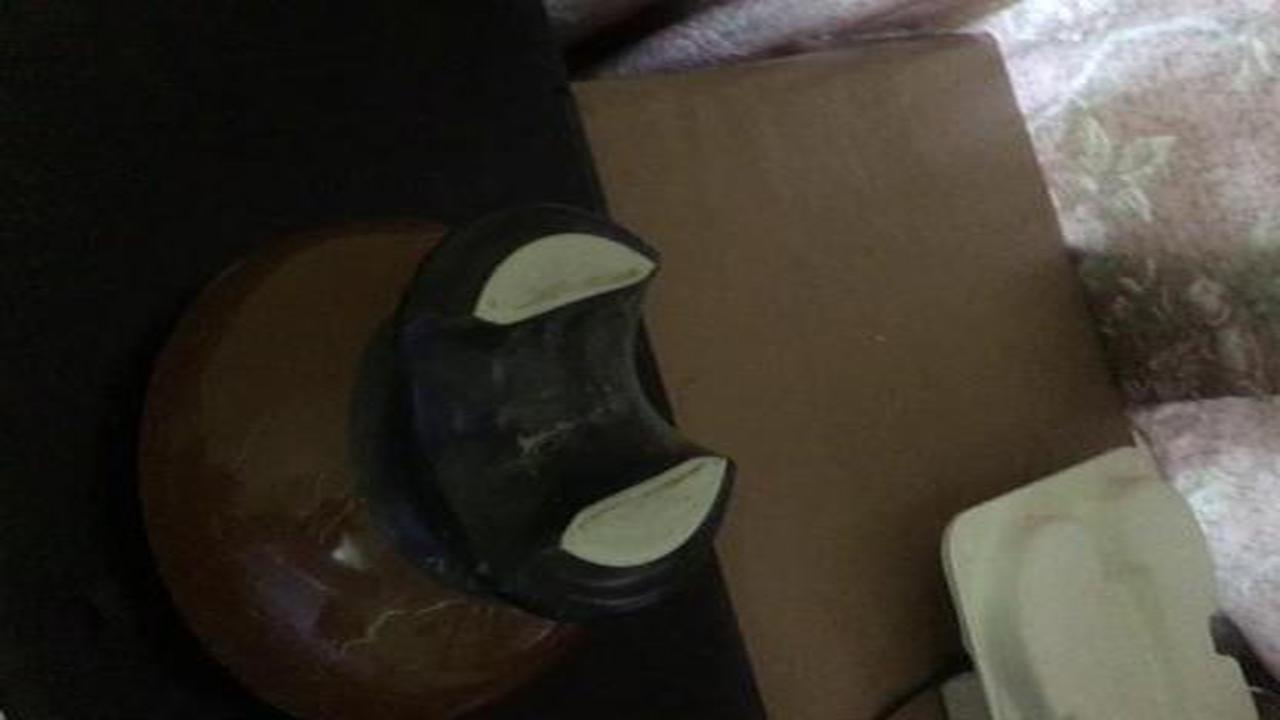insulator_pin: (111, 191, 761, 717)
